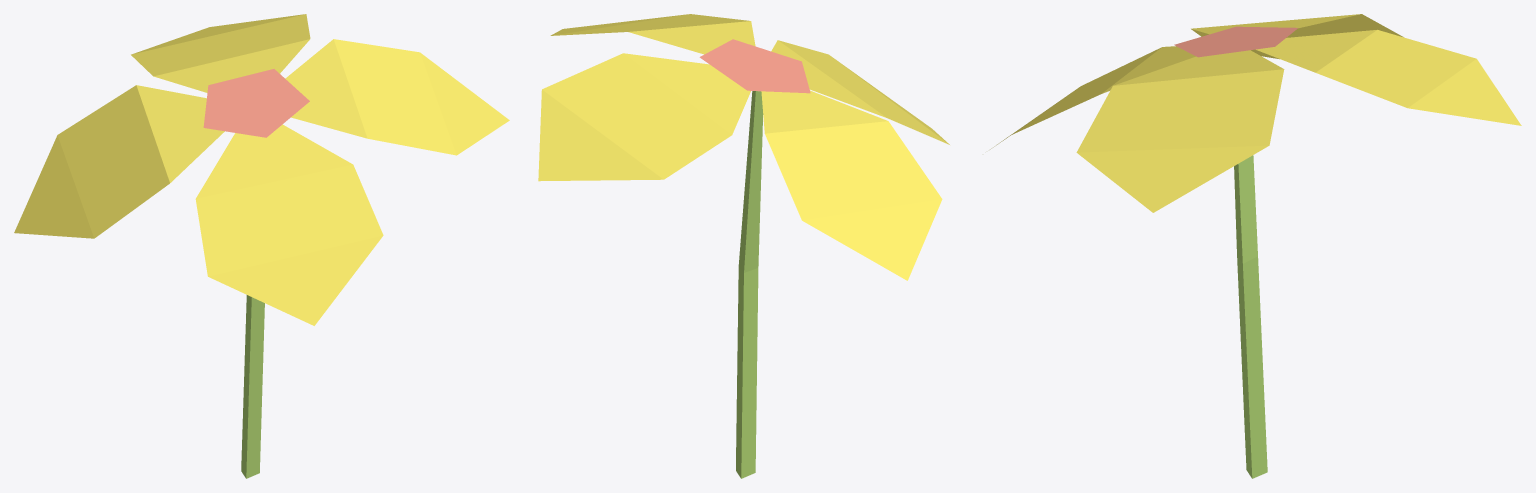
Rendered from Flower_d_OneS_02.fbx.
3 renders of one model, left to right at view 1: azimuth 30°, elevation 25°; view 2: azimuth 150°, elevation 25°; view 3: azimuth 270°, elevation 25°, orthographic. The views are drawn at different scales.
Visible parts, largest first — view 1: Flower_d_OneS_02; view 2: Flower_d_OneS_02; view 3: Flower_d_OneS_02.
Part boxes in pixels (x1,y1,x2,y2): Flower_d_OneS_02: [14, 14, 509, 478]; Flower_d_OneS_02: [538, 14, 949, 478]; Flower_d_OneS_02: [990, 14, 1521, 478].
Bounding box in the file's own units: 23.84 × 22.33 × 23.95.
